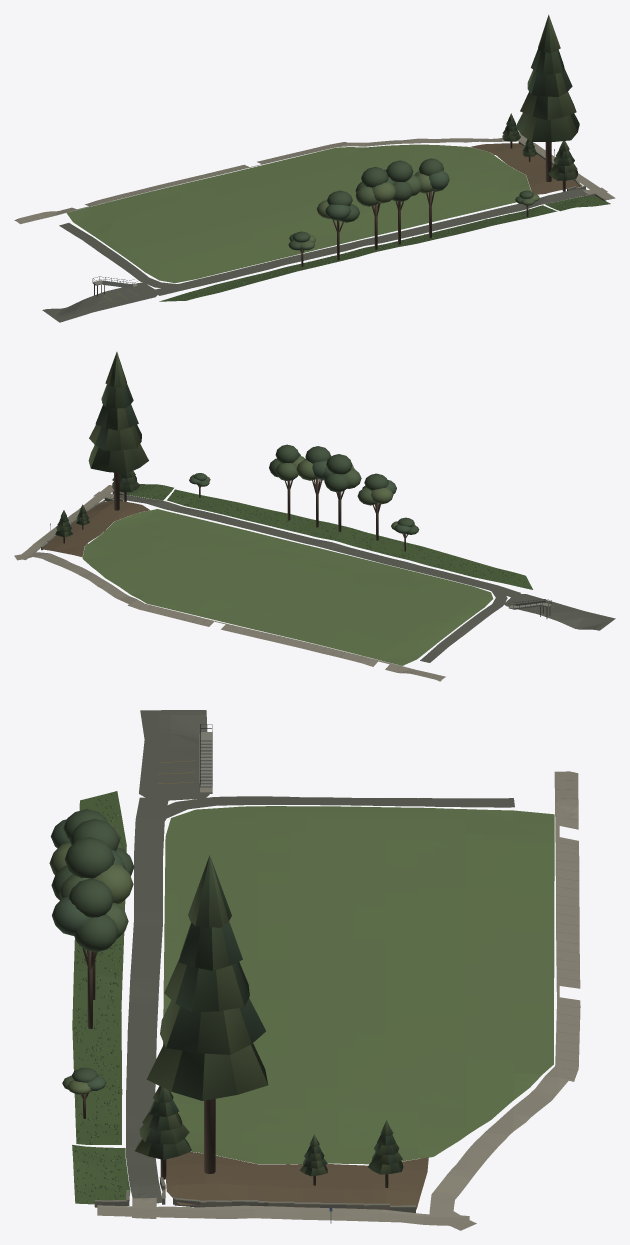
The model's file is site.glb.
3 views of the same model, one above another, from view 1: azimuth 30°, elevation 25°; view 2: azimuth 150°, elevation 25°; view 3: azimuth 270°, elevation 25° (orthographic). The views are drawn at different scales.
Parts seen in each view (by area): view 1: gerlinger-field-green-surface, gerlinger-field-green-planting, gerlinger-field-green-detail; view 2: gerlinger-field-green-surface, gerlinger-field-green-planting; view 3: gerlinger-field-green-surface, gerlinger-field-green-planting, gerlinger-field-green-detail.
Part boxes in pixels (<box>): gerlinger-field-green-surface: <box>14,132,615,322</box>; gerlinger-field-green-planting: <box>164,14,608,300</box>; gerlinger-field-green-detail: <box>92,141,605,296</box>; gerlinger-field-green-surface: <box>14,484,615,681</box>; gerlinger-field-green-planting: <box>55,352,530,587</box>; gerlinger-field-green-surface: <box>72,710,580,1230</box>; gerlinger-field-green-planting: <box>49,793,403,1202</box>; gerlinger-field-green-detail: <box>94,724,415,1223</box>.
Size of the model in its own units: 139 by 42.94 by 61.37.
